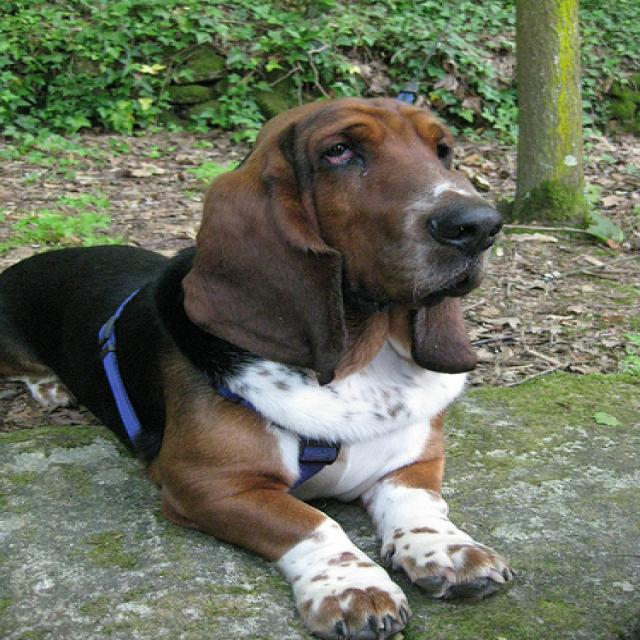dog-basset_hound: (2, 82, 539, 637)
